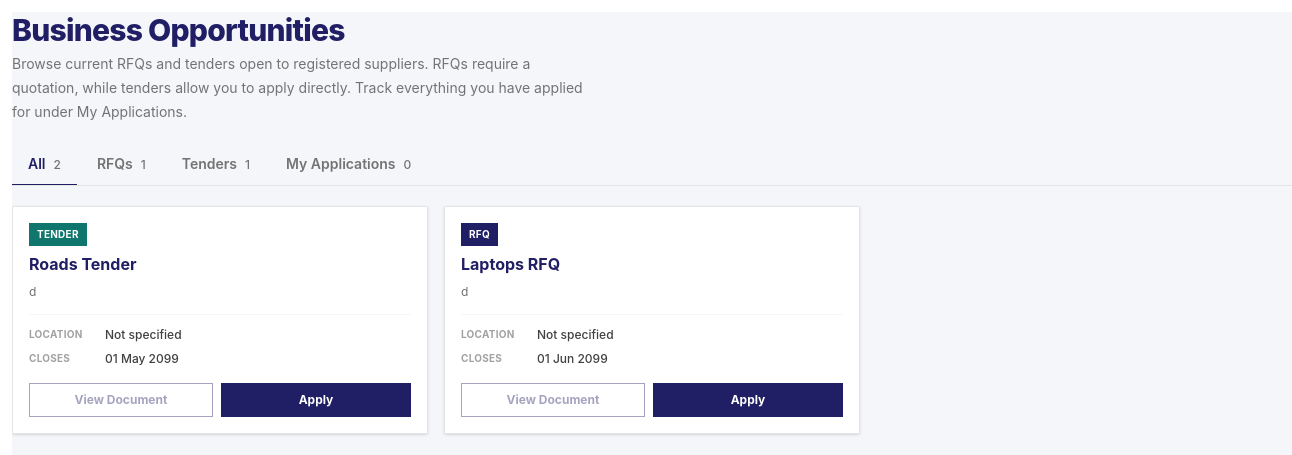
Test: Opportunities page › logged-out user is asked to log in and applications are not fetched
Expected: the heading "Laptops RFQ" is shown, [461,254,560,274]
Click the tab "My Applications0": [349, 165] box [270,144,427,186]
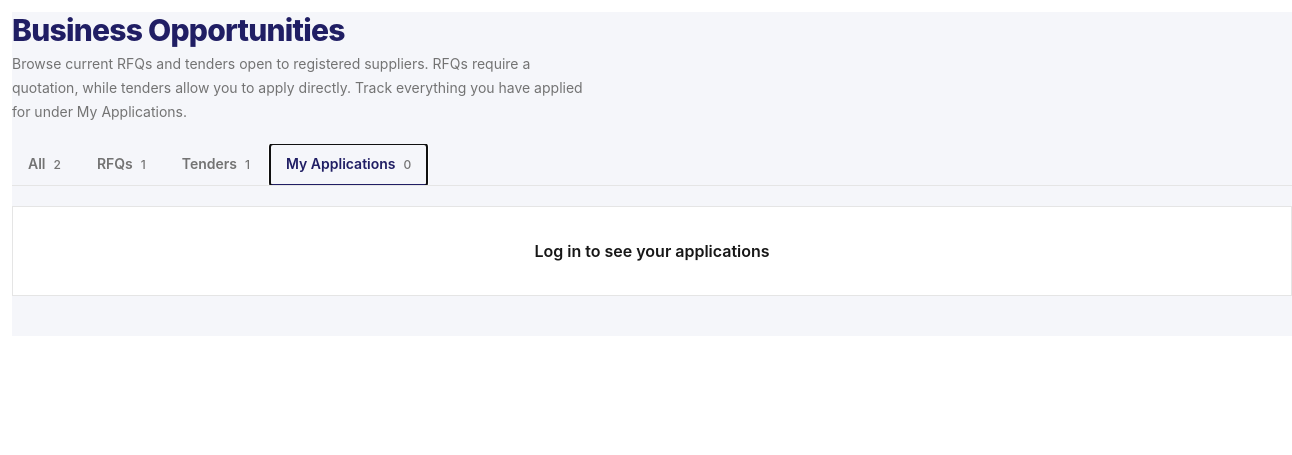
Now the text "Log in to see your applications" is shown, box [534,241,770,261]
